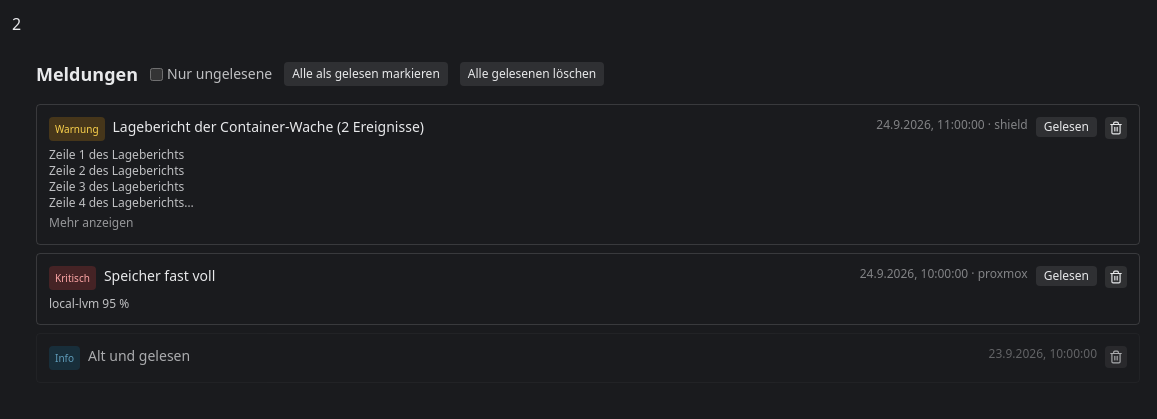
Test: NotificationsPage › zeigt einen Fehler beim Löschen und lässt die Meldung stehen
Click the button named "löschen".
click(1116, 128)  # box [1105,117,1127,139]
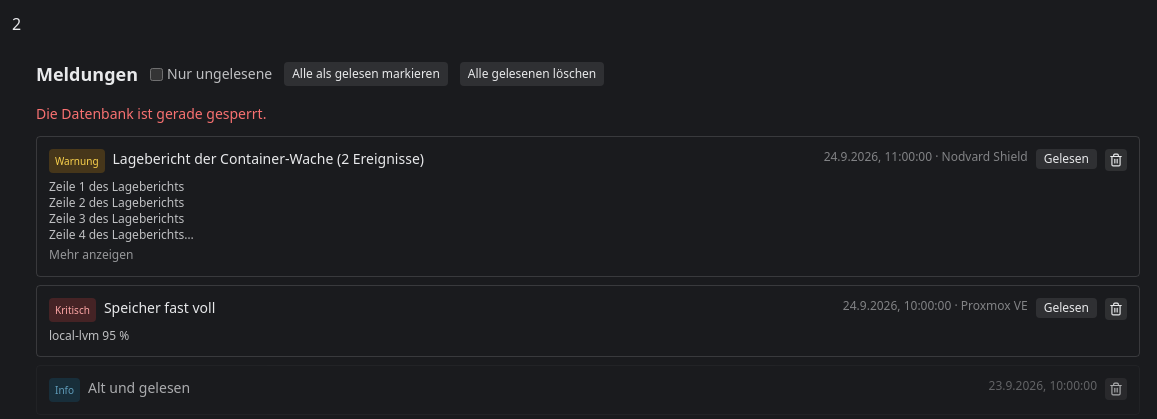
Expected: the list item with test id "notification-n1" is shown, [36,136,1140,277]
Result: the message reads "Die Datenbank ist gerade gesperrt." at [36,104,266,123]
